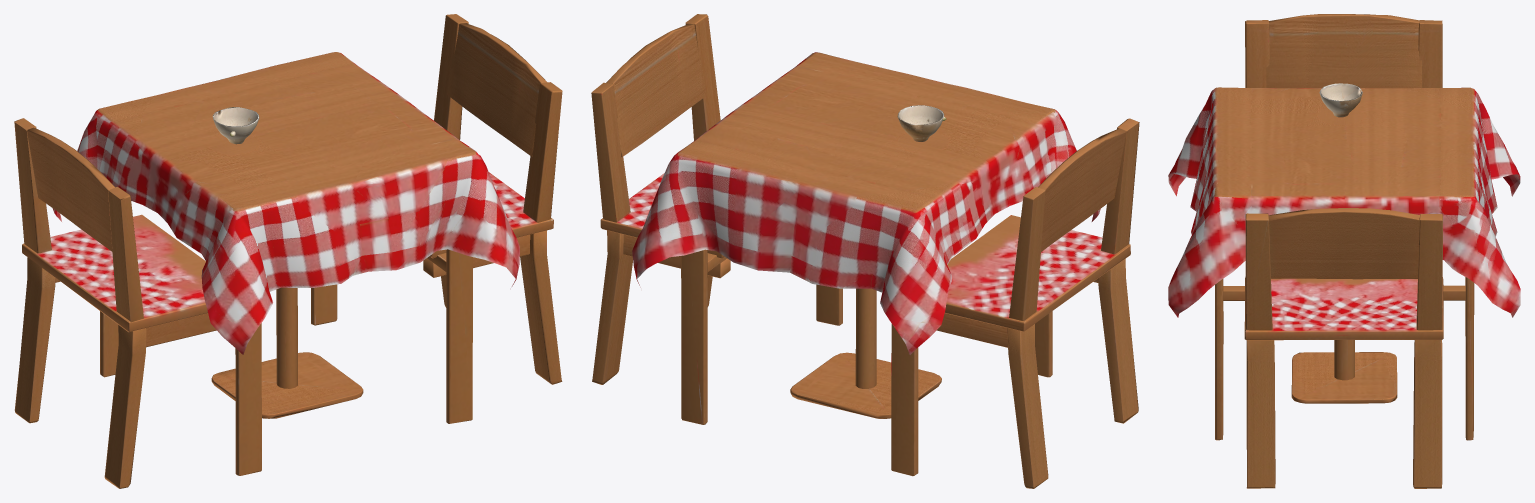
Rendered from prop_table_dining.glb.
3 renders of one model, left to right at view 1: azimuth 30°, elevation 25°; view 2: azimuth 150°, elevation 25°; view 3: azimuth 270°, elevation 25°, orthographic. The views are drawn at different scales.
Bounding box in the file's own units: 1 × 0.6514 × 0.7468.
1 material, 1 textured.
